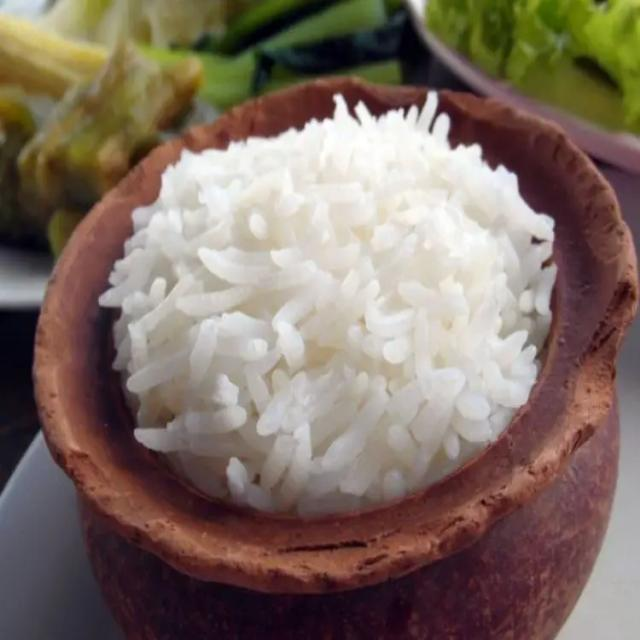Wet Waste: (98, 83, 564, 512)
